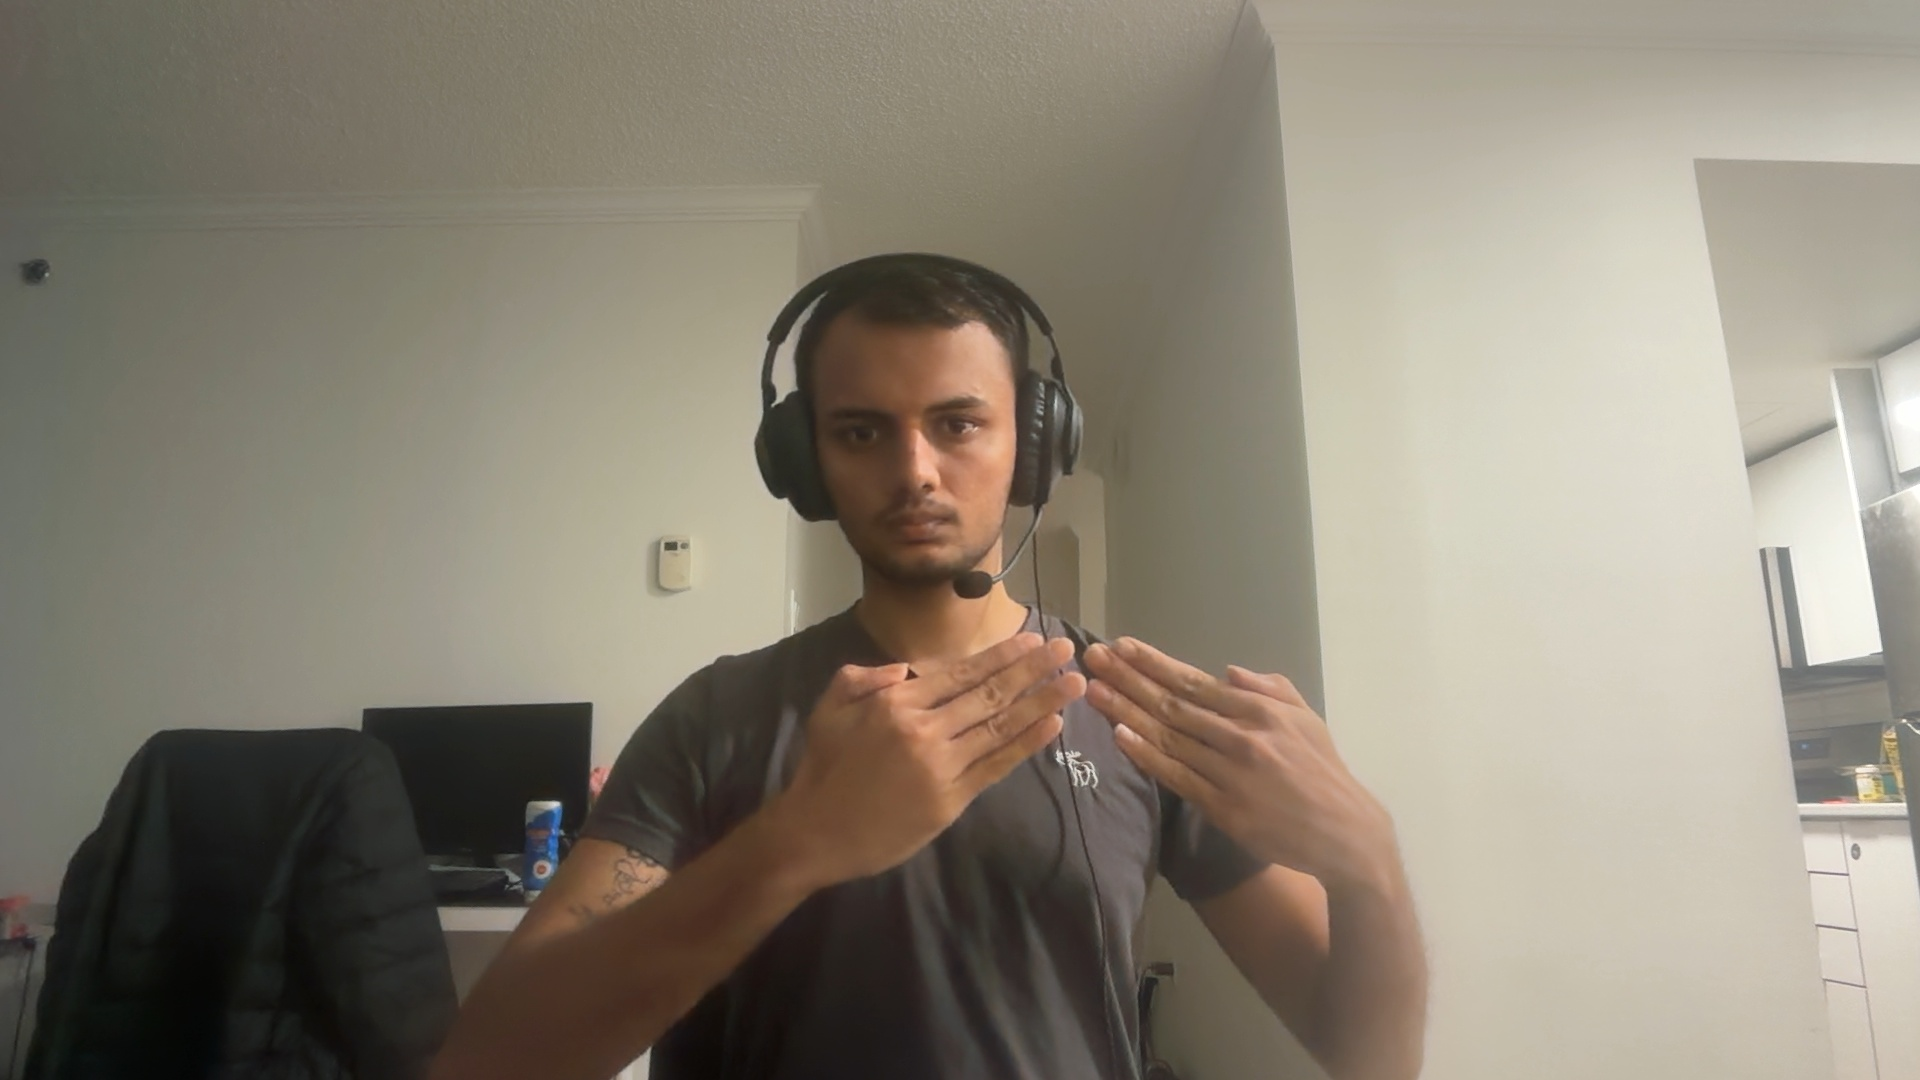thankyou: (794, 633, 1381, 891)
